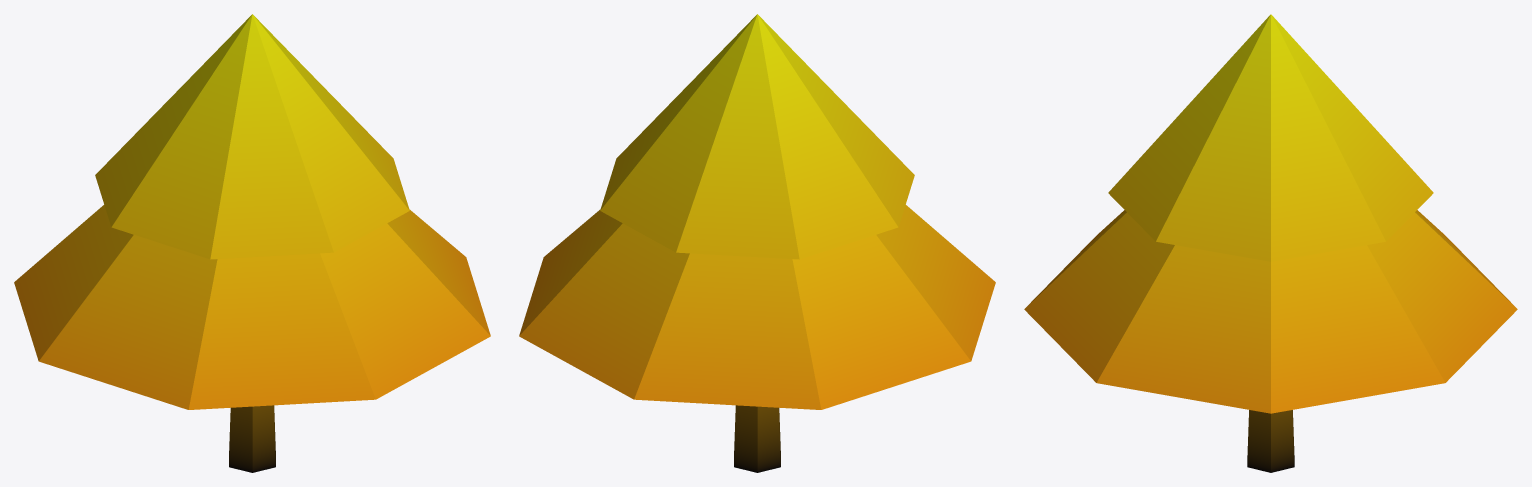
File: family_tree.glb
The picture shows the model from 3 angles, left to right: view 1: azimuth 30°, elevation 25°; view 2: azimuth 150°, elevation 25°; view 3: azimuth 270°, elevation 25°; orthographic projection.
Visible parts, largest first — view 1: family_tree; view 2: family_tree; view 3: family_tree.
Part boxes in pixels (x1,y1,x2,y2): family_tree: (14,14,490,472); family_tree: (519,14,995,472); family_tree: (1024,14,1517,472).
Size of the model in its own units: 1 by 1 by 1.
